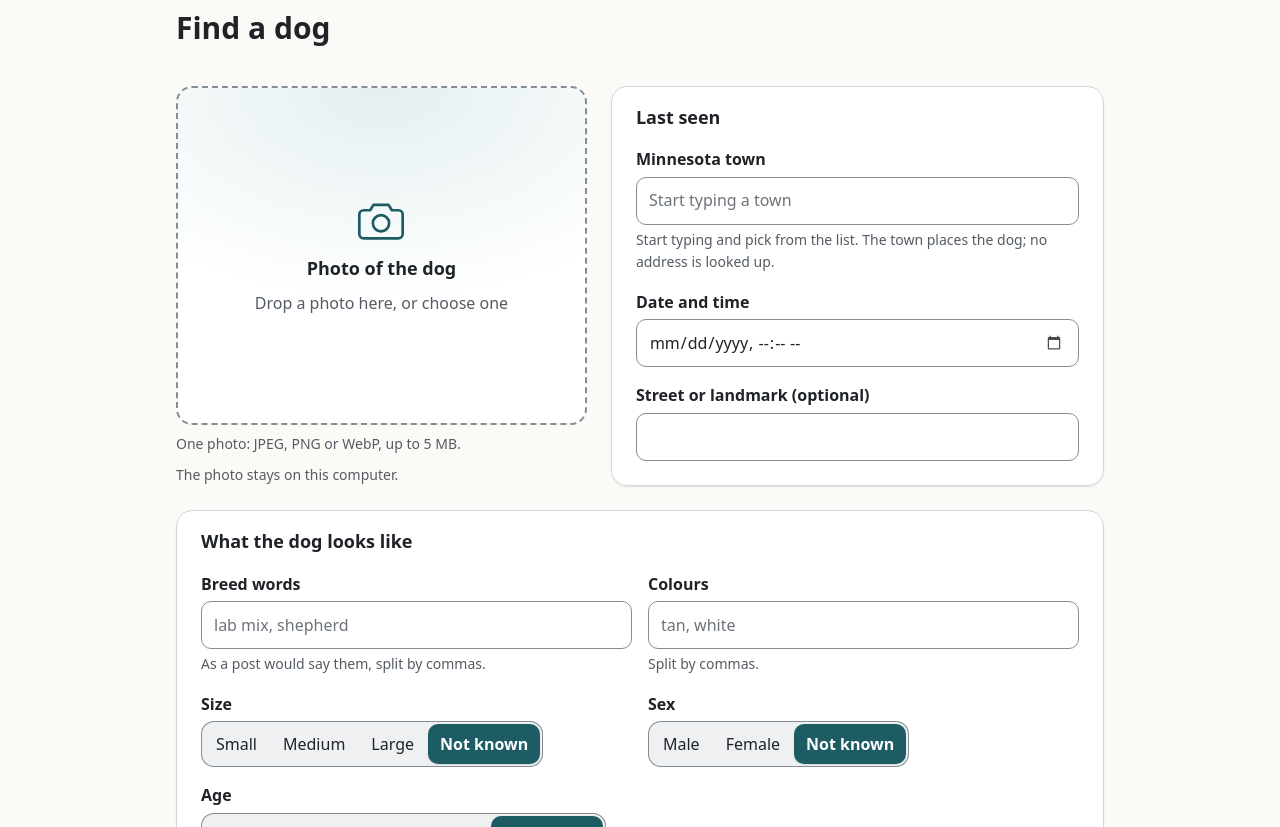
Test: the search on the home screen › searches again on the same dog, and a new search starts with an empty form
Type "Ada" into the dropdown labelled "Minnesota town".
click(857, 201); type("Ada")  # box x1=636 y1=177 x2=1079 y2=225
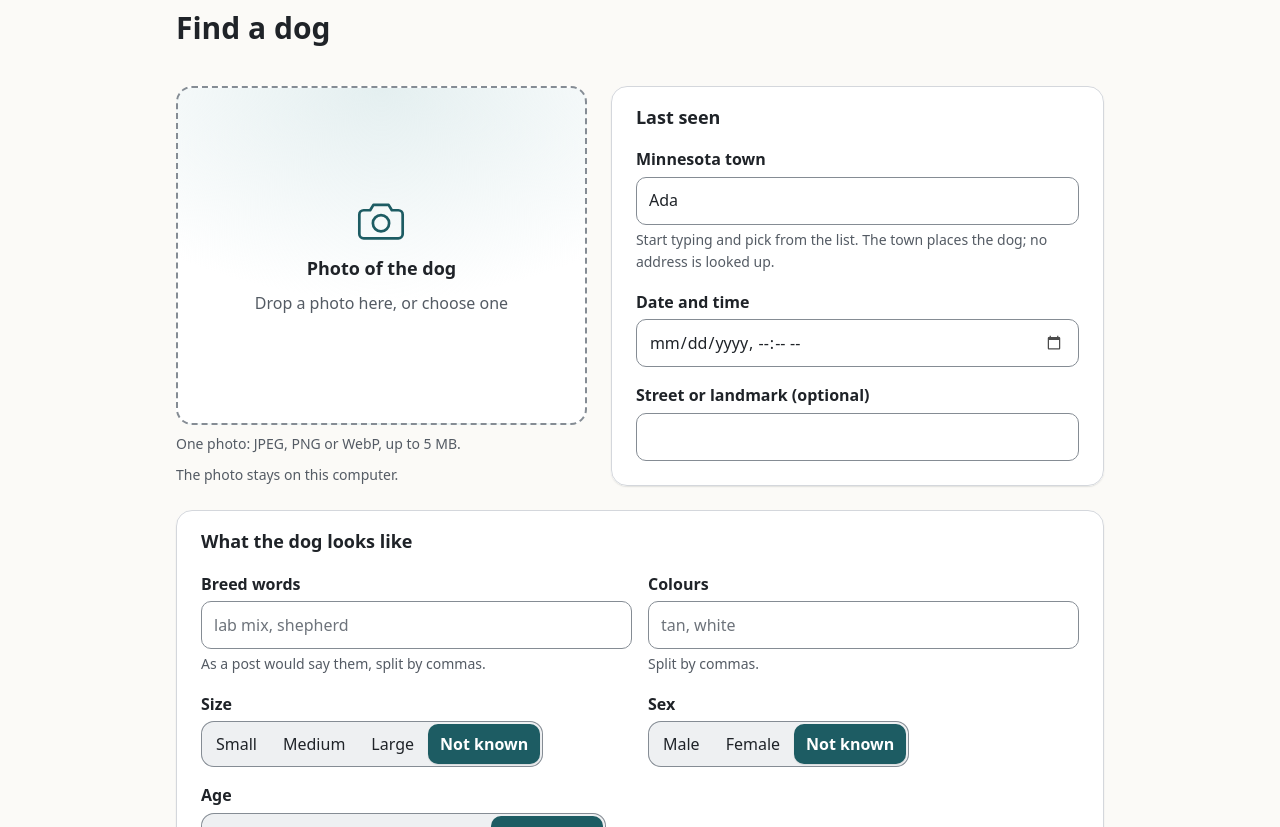
Type "2026-01-10T06:00" into the field labelled "Date and time".
click(857, 343); type("2026-01-10T06:00")  # box x1=636 y1=319 x2=1079 y2=367
(page scrolled)
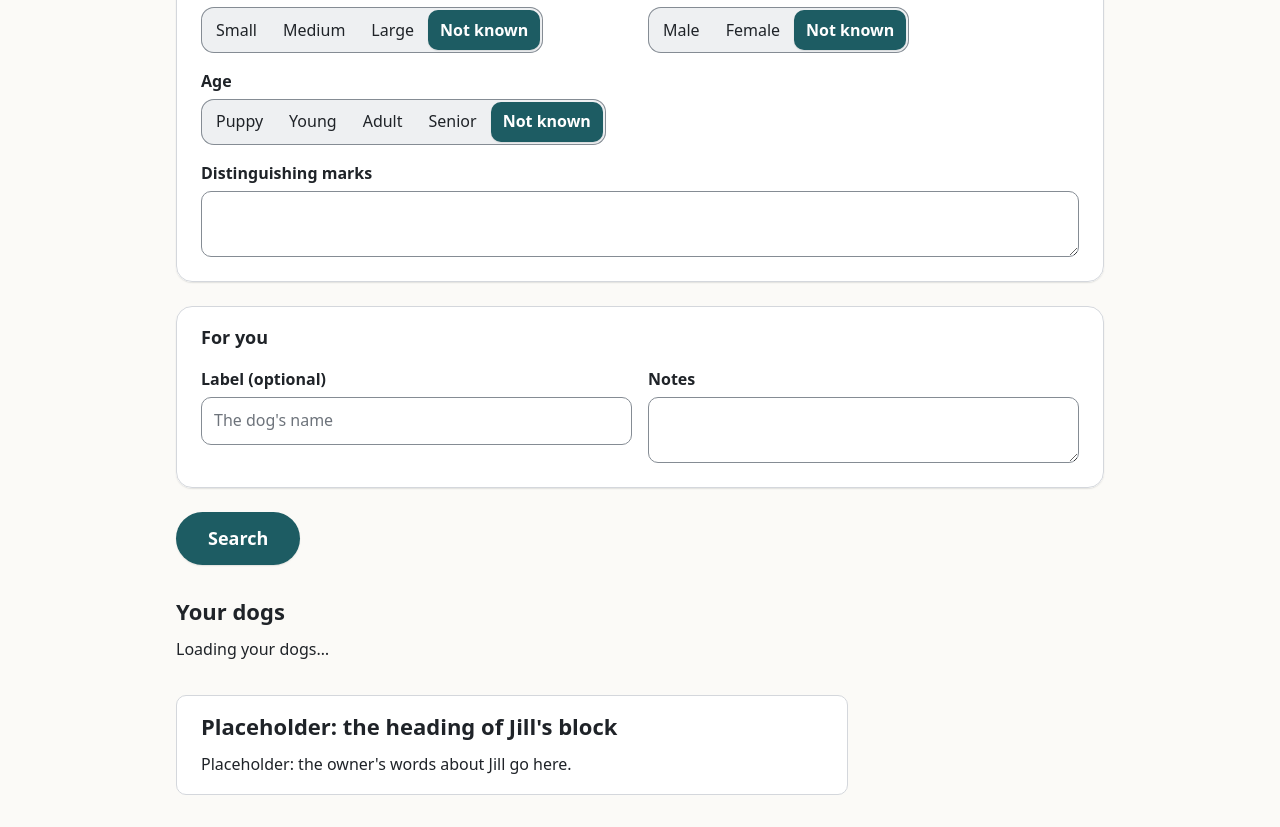
Click the button "Search".
click(238, 538)  # box x1=176 y1=512 x2=300 y2=565
(page scrolled)
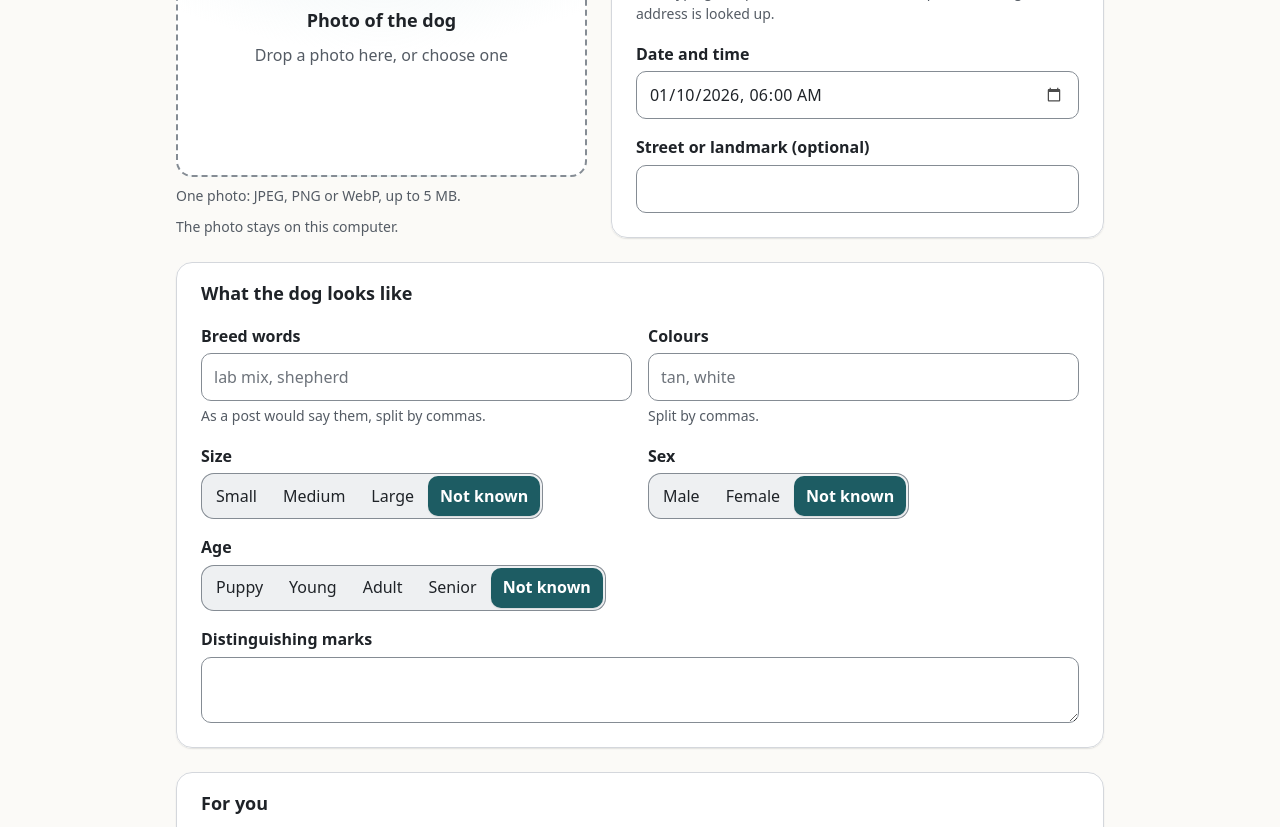
Type "teal, white" into the field labelled "Colours".
click(864, 377); type("teal, white")  # box x1=648 y1=353 x2=1079 y2=401
(page scrolled)
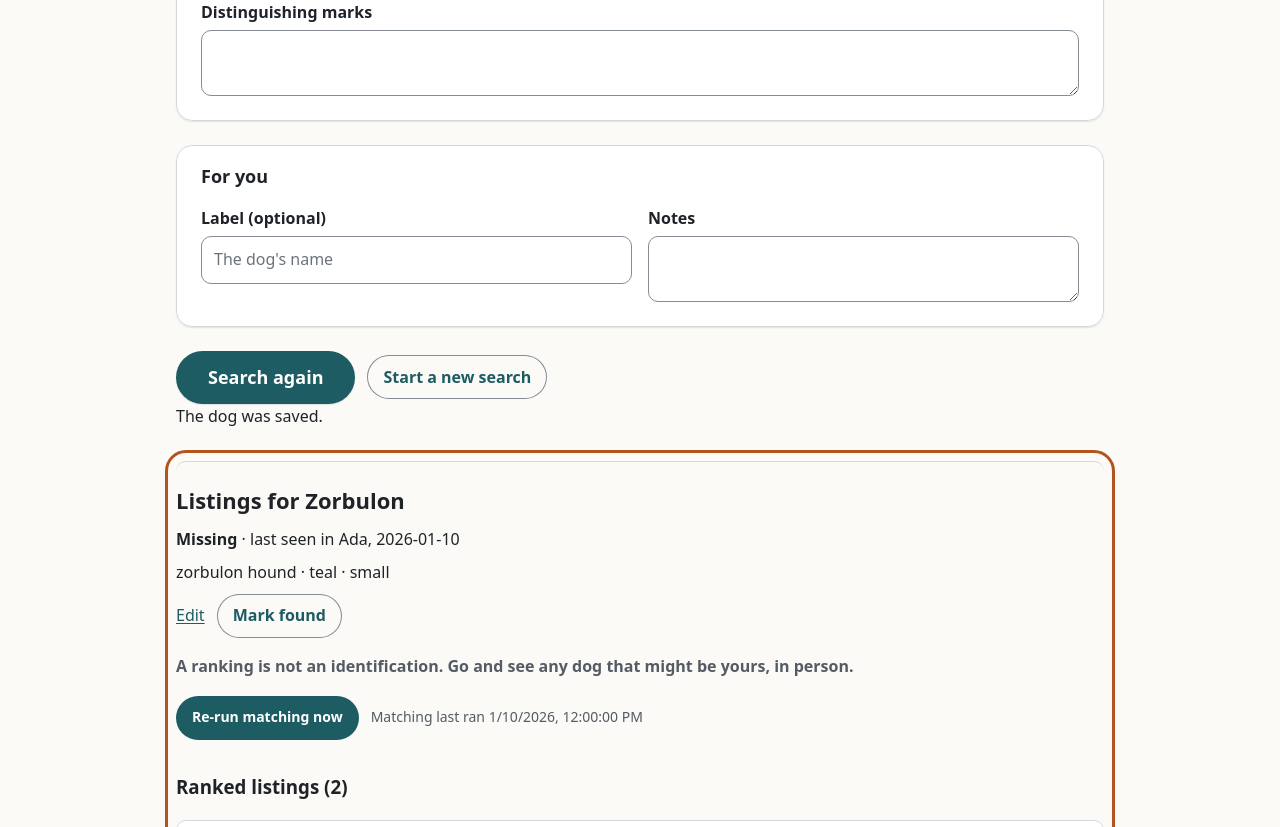
Click the button "Search again".
click(266, 377)  # box x1=176 y1=351 x2=356 y2=404
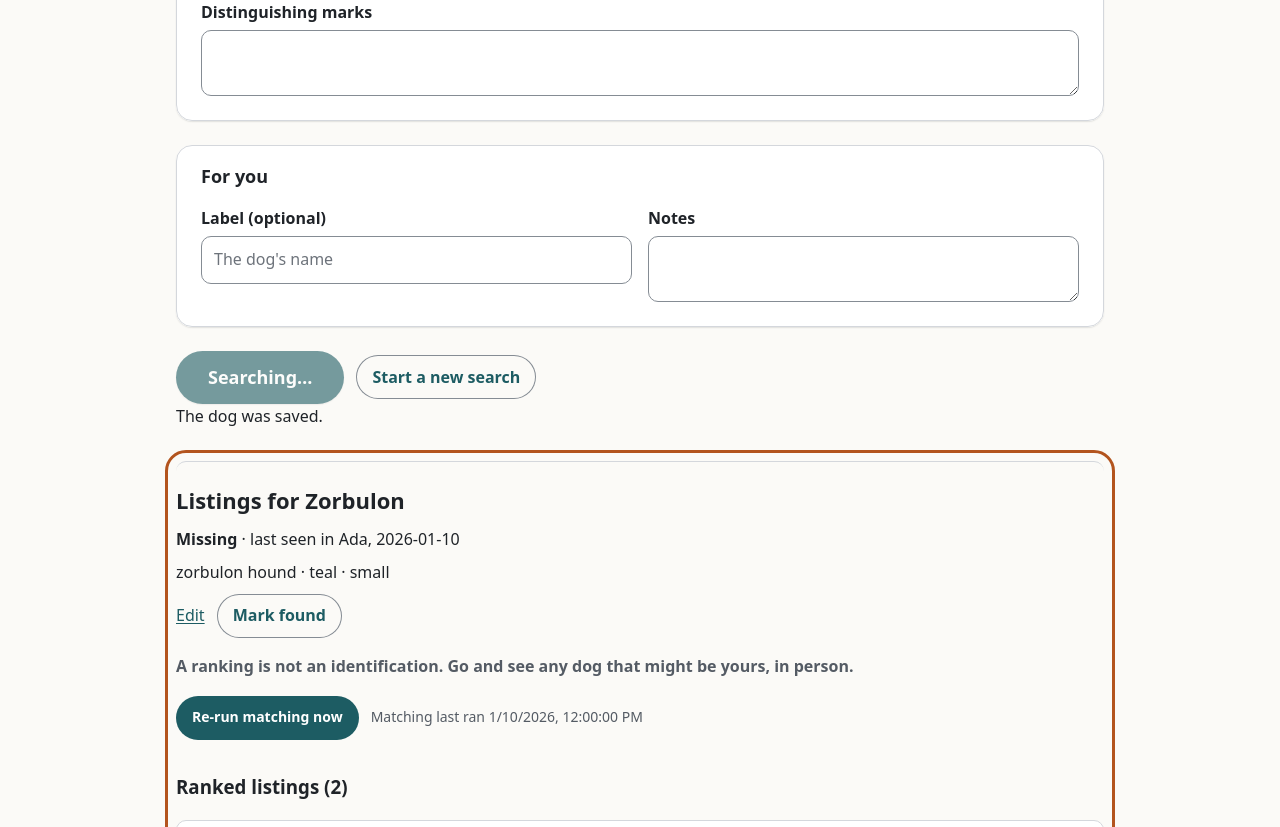
Click the button "Start a new search".
click(446, 377)  # box x1=356 y1=355 x2=536 y2=399
(page scrolled)
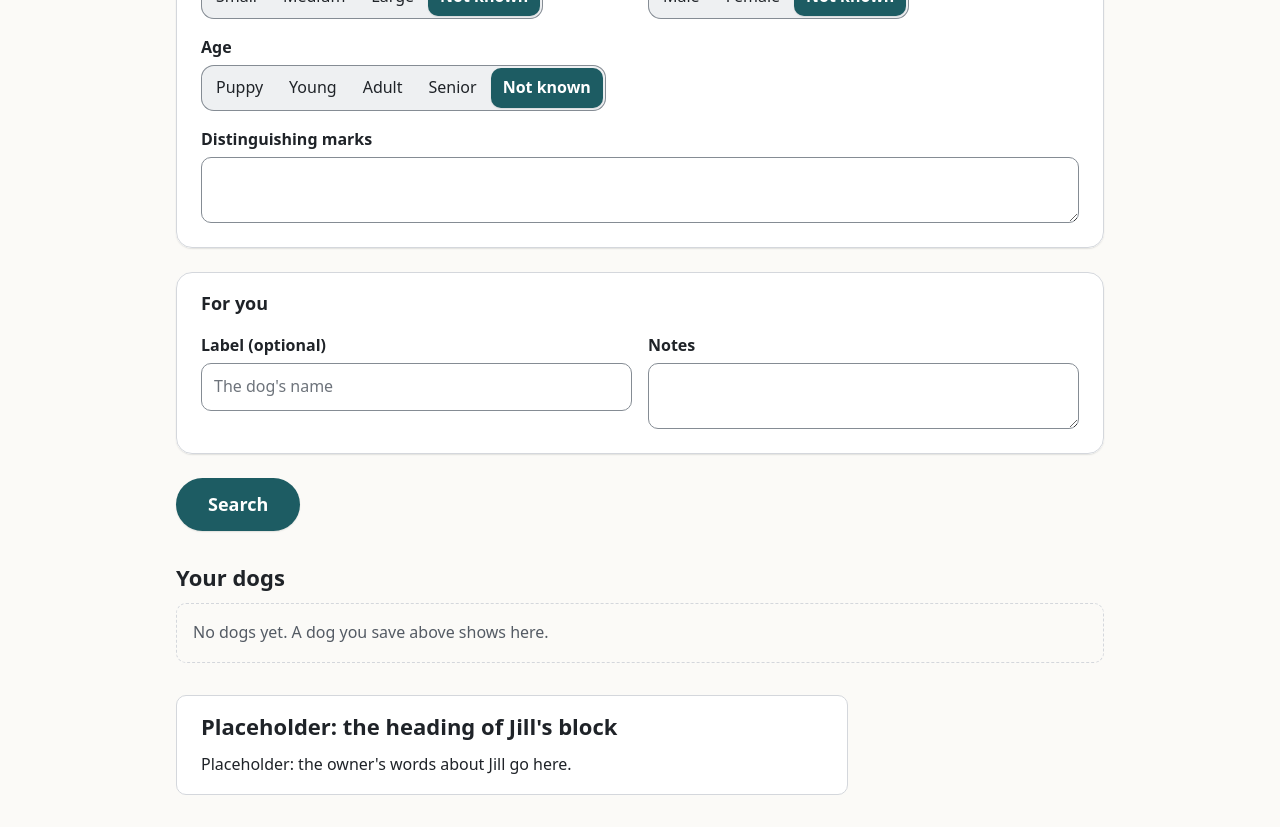
Expected: the button "Search" is shown, x1=176 y1=478 x2=300 y2=531
Expected: the heading "Listings for Zorbulon" is gone
